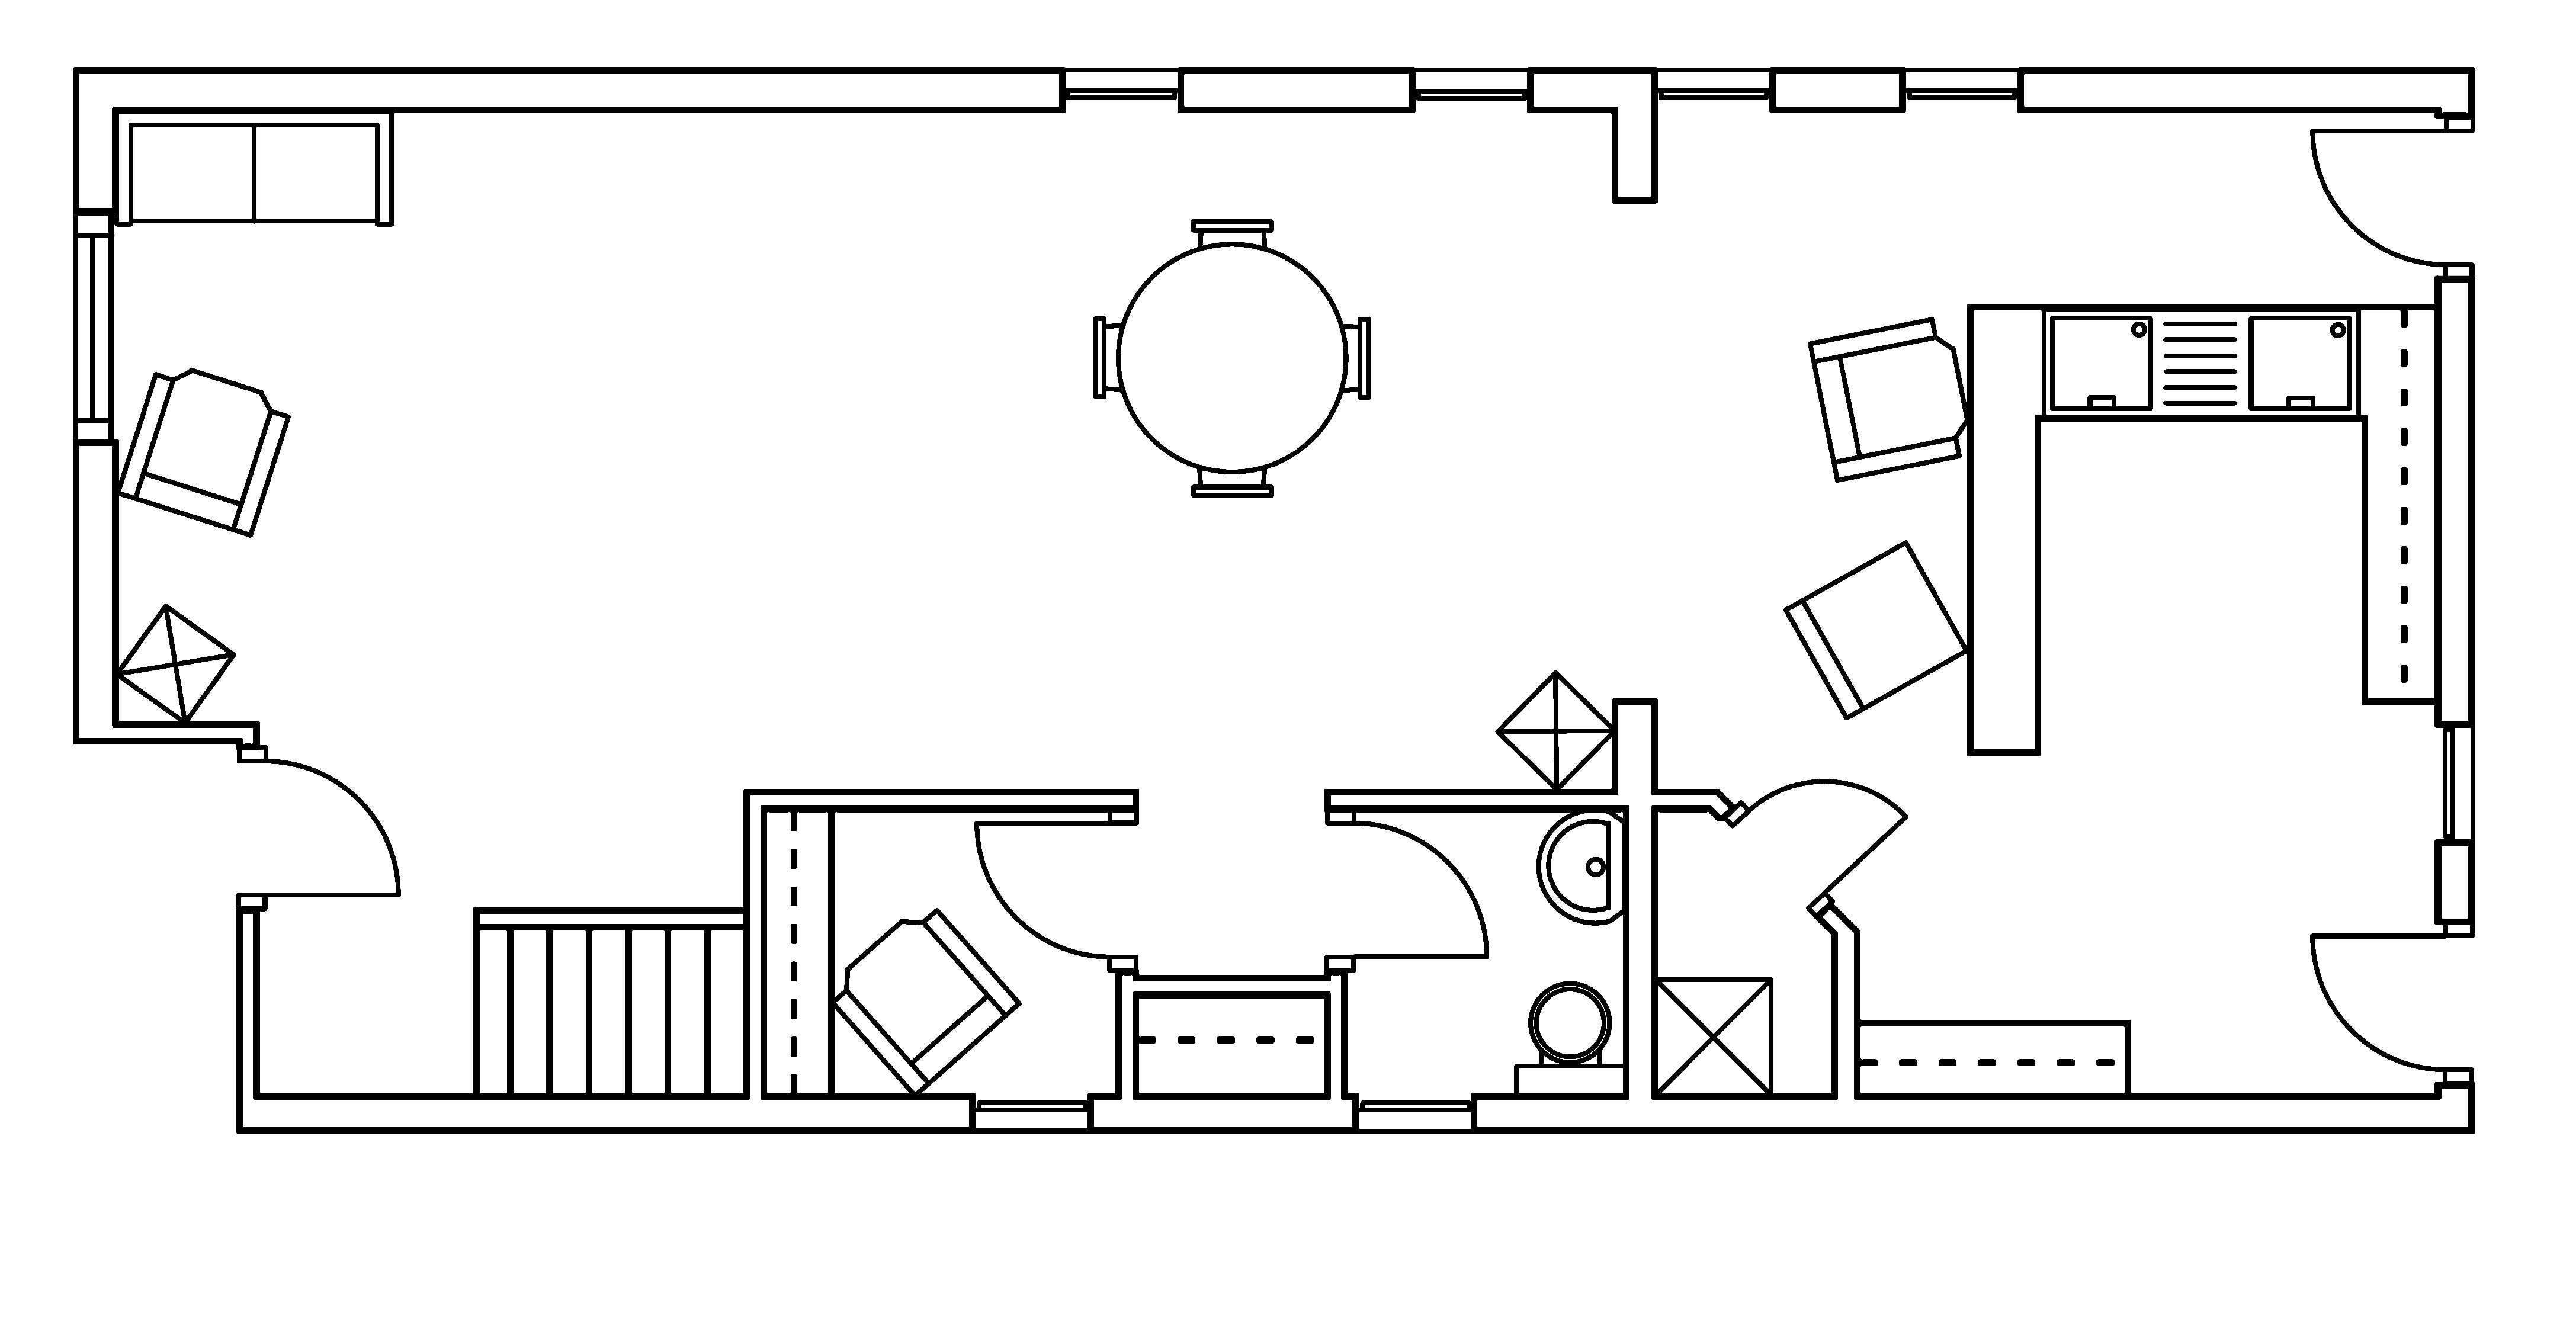armchair: (829, 907, 1022, 1099), (114, 367, 291, 538), (1806, 316, 1971, 483)
coffee_table: (113, 602, 237, 725), (1493, 670, 1618, 792), (1651, 976, 1774, 1097)
large_sink: (1513, 981, 1628, 1097)
large_sofa: (113, 108, 395, 227)
round_table: (1093, 219, 1370, 498)
small_sink: (1535, 808, 1628, 925)
small_sofa: (1782, 538, 1969, 720)
twin_sink: (2040, 305, 2361, 421)
